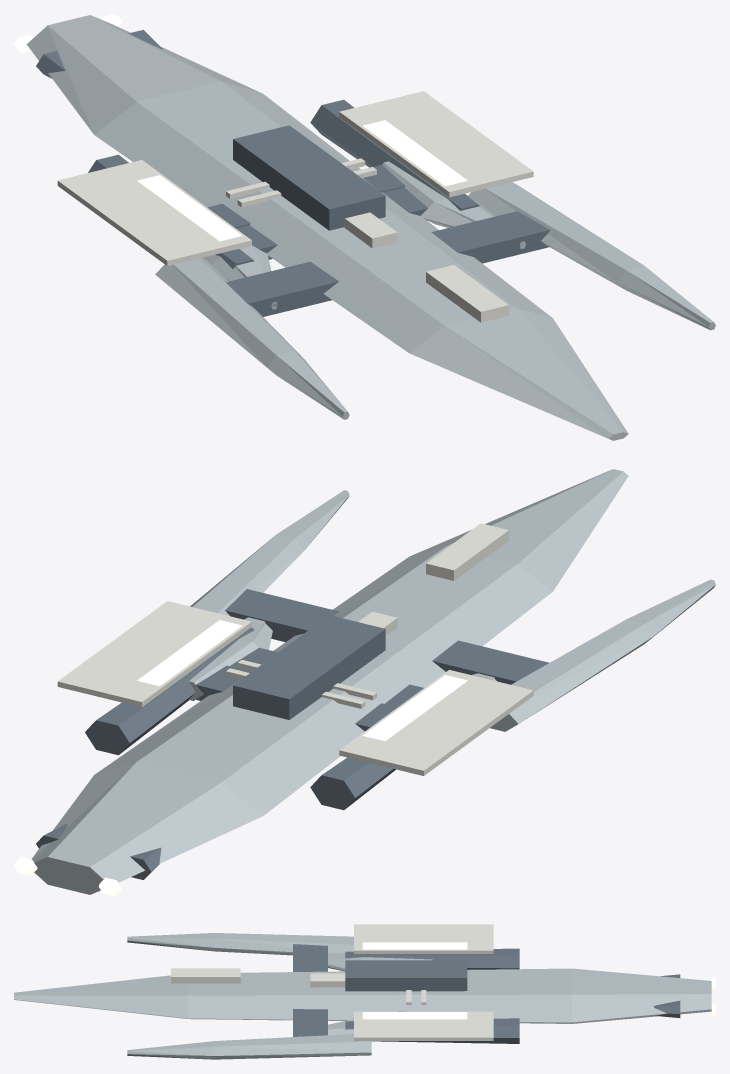
3 renders of one model, top to bottom at view 1: azimuth 30°, elevation 25°; view 2: azimuth 150°, elevation 25°; view 3: azimuth 270°, elevation 25°, orthographic. The views are drawn at different scales.
Bounding box in the file's own units: 6.36 × 1.04 × 15.78.
